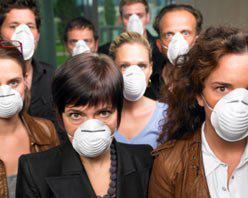OK: (64, 102, 119, 157), (205, 71, 248, 135), (2, 18, 42, 60), (115, 56, 151, 97), (162, 25, 196, 64), (1, 70, 24, 116), (70, 32, 95, 63), (122, 12, 148, 38)
